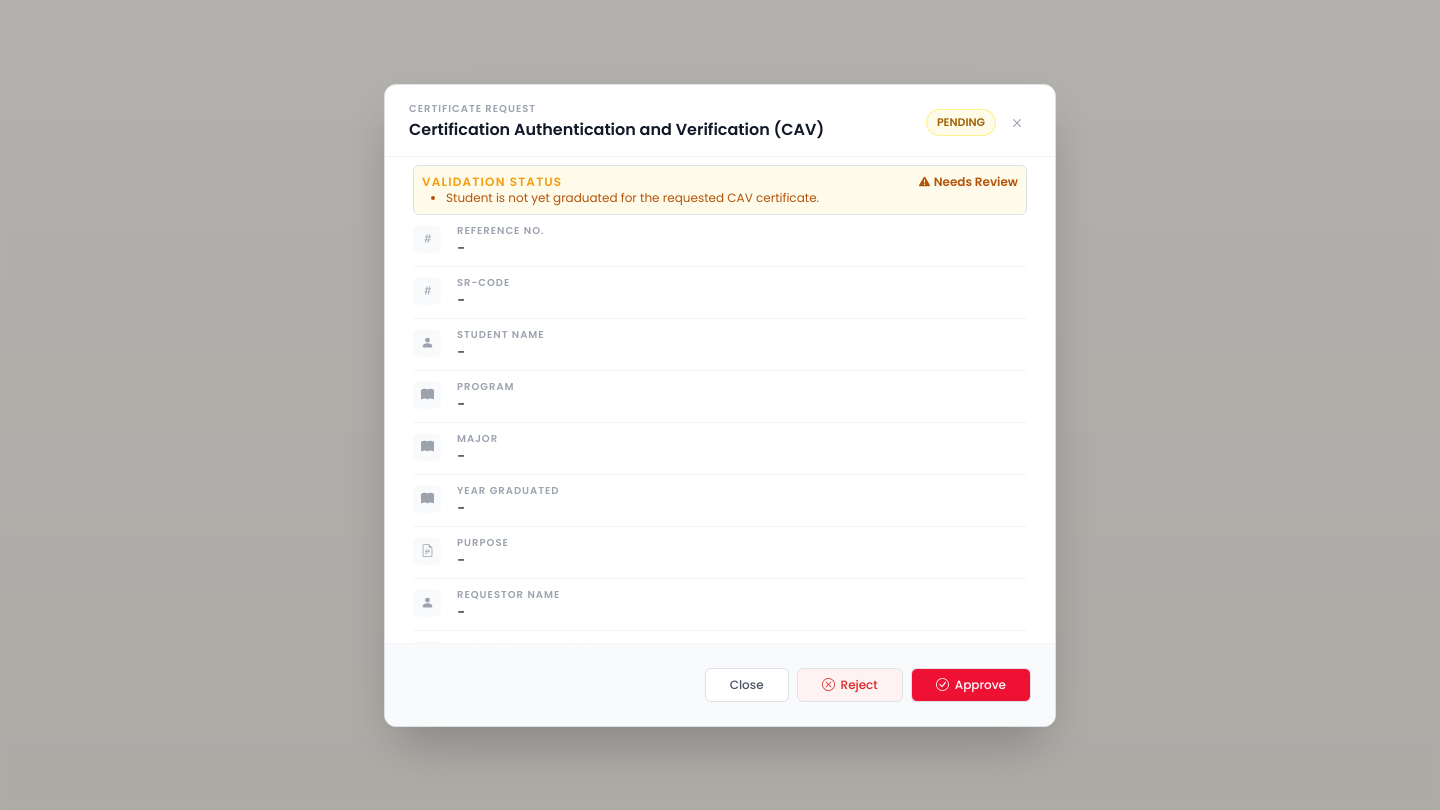
RequestModal › suggests graduation verification for cav validation flags
The width and height of the screenshot is (1440, 810).
Click the button "Reject". click: (850,684)
box: [796,668,903,702]
(page scrolled)
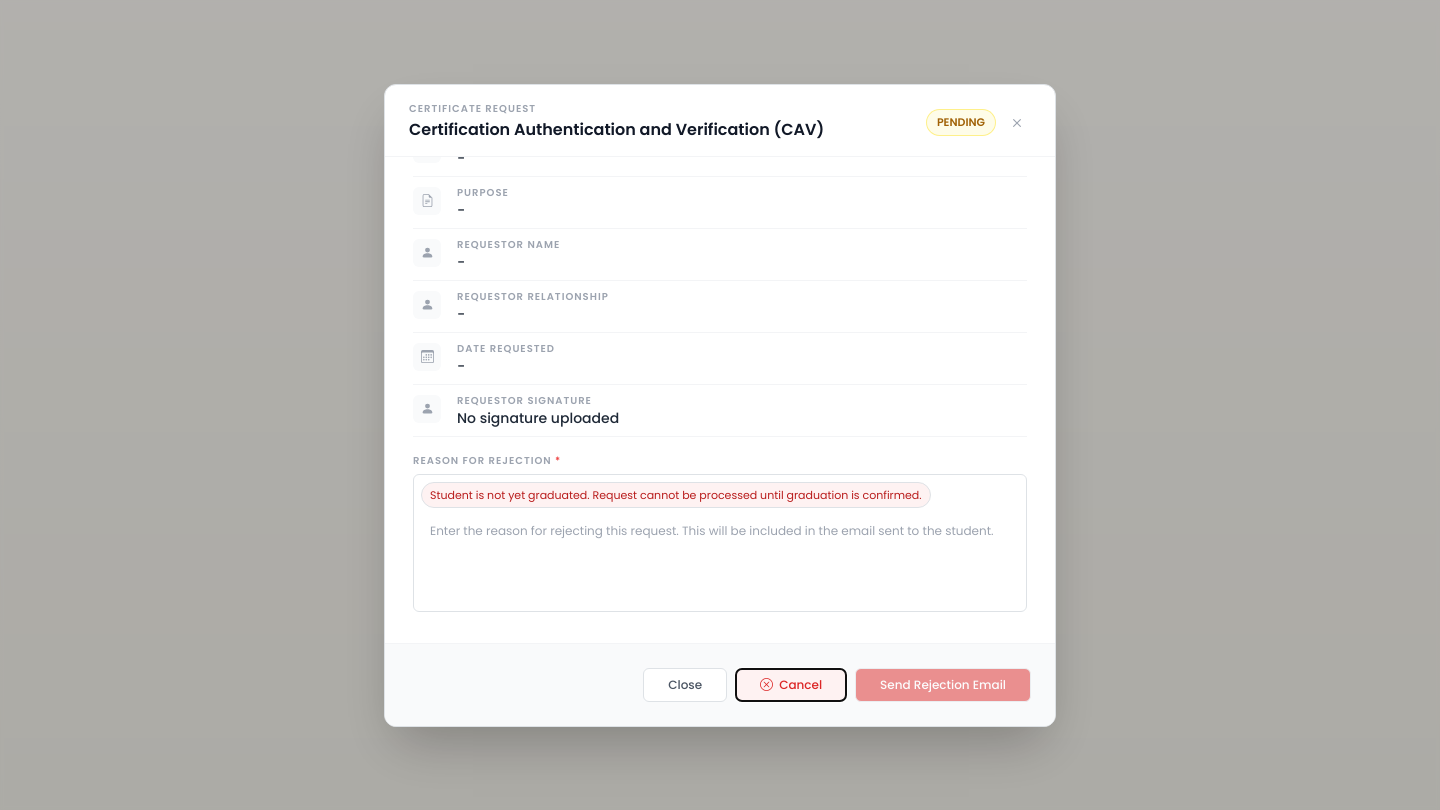
Click the button named "student is not yet graduated. request cannot be processed until graduation is confirmed". click: (676,495)
box: [421,482,931,508]
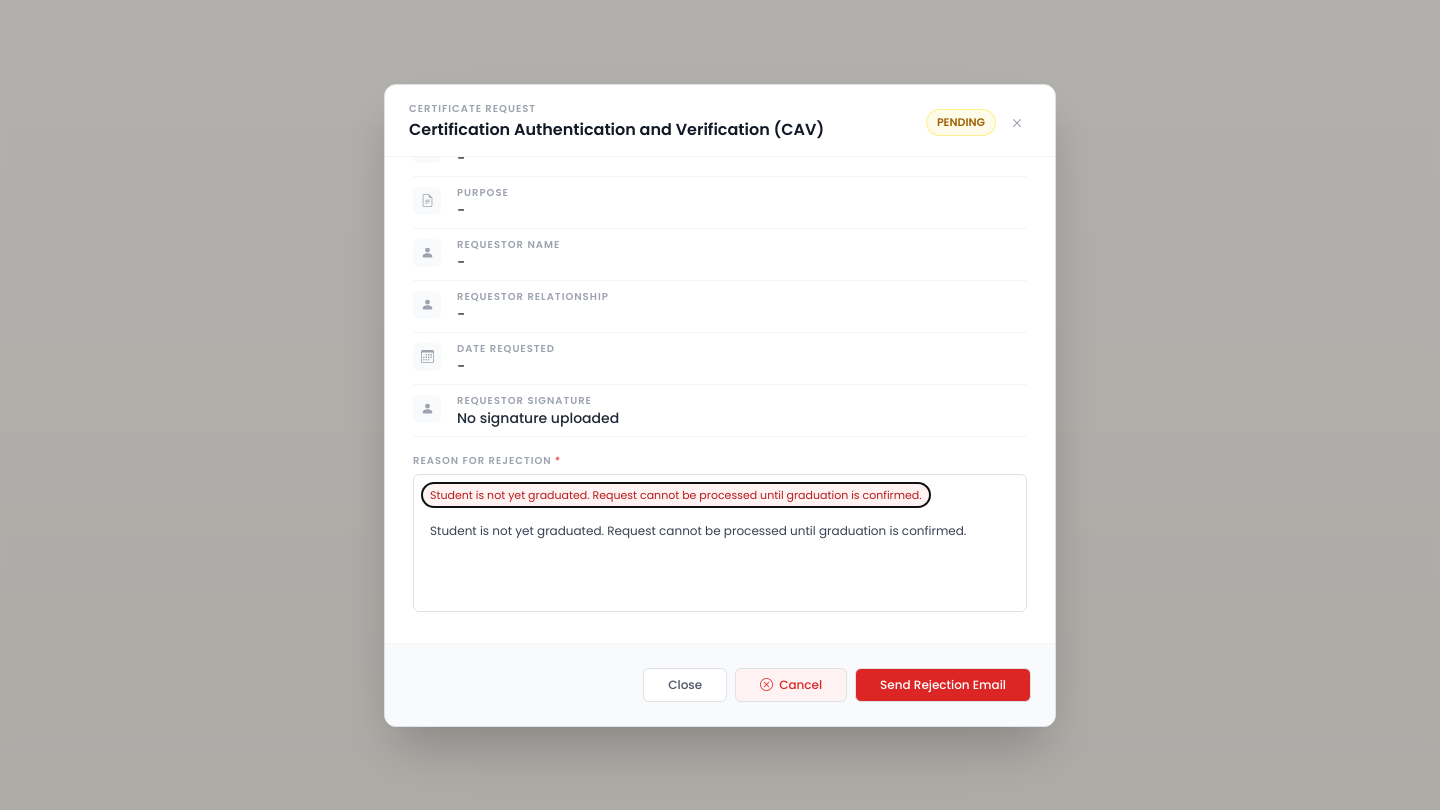
expect the text box with placeholder "reason for rejecting" holds "Student is not yet graduated. Request cannot be processed until graduation is confirmed.": met, box [413,474,1027,612]
